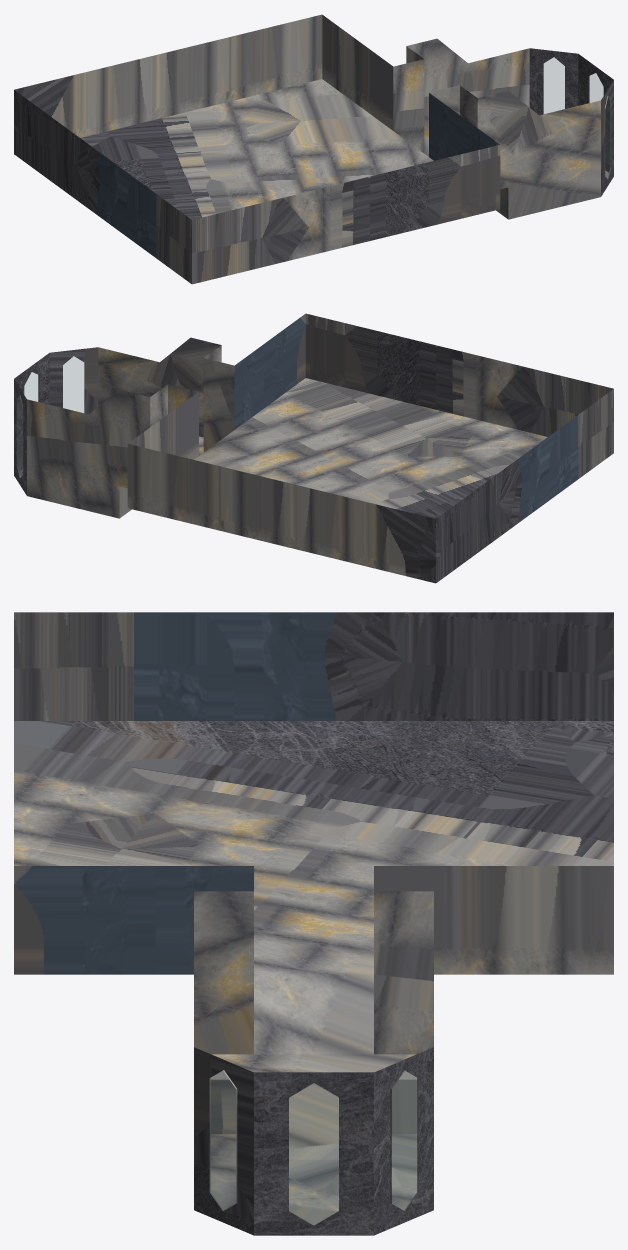
Rendered from Catacombs-Floor.fbx.
3 views of the same model, one above another, from view 1: azimuth 30°, elevation 25°; view 2: azimuth 150°, elevation 25°; view 3: azimuth 270°, elevation 25° (orthographic). The views are drawn at different scales.
Parts seen in each view (by area): view 1: Floor1; view 2: Floor1; view 3: Floor1.
Part boxes in pixels (x1,y1,x2,y2): Floor1: (14,14,613,284); Floor1: (14,313,613,583); Floor1: (14,612,613,1235).
Size of the model in its own units: 32.05 by 8 by 20.
